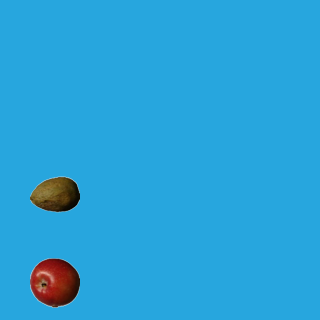Apple Braeburn: (29, 257, 79, 307)
Papaya: (29, 169, 79, 219)
